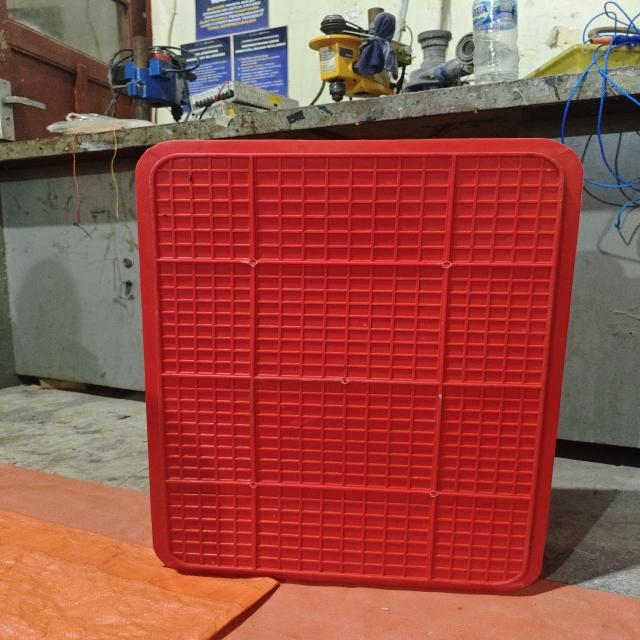red plastic box: (136, 138, 584, 593)
